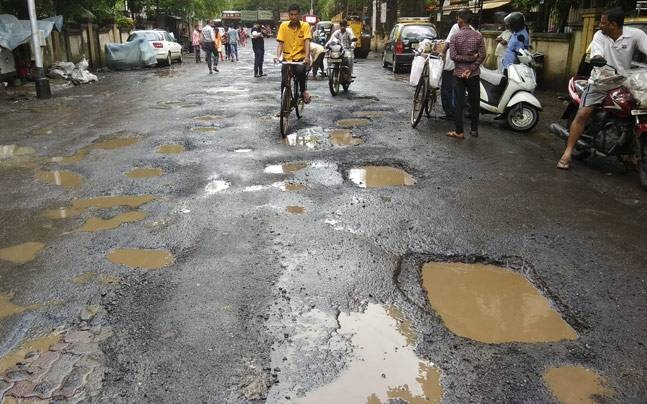pothole: (307, 178, 613, 363)
